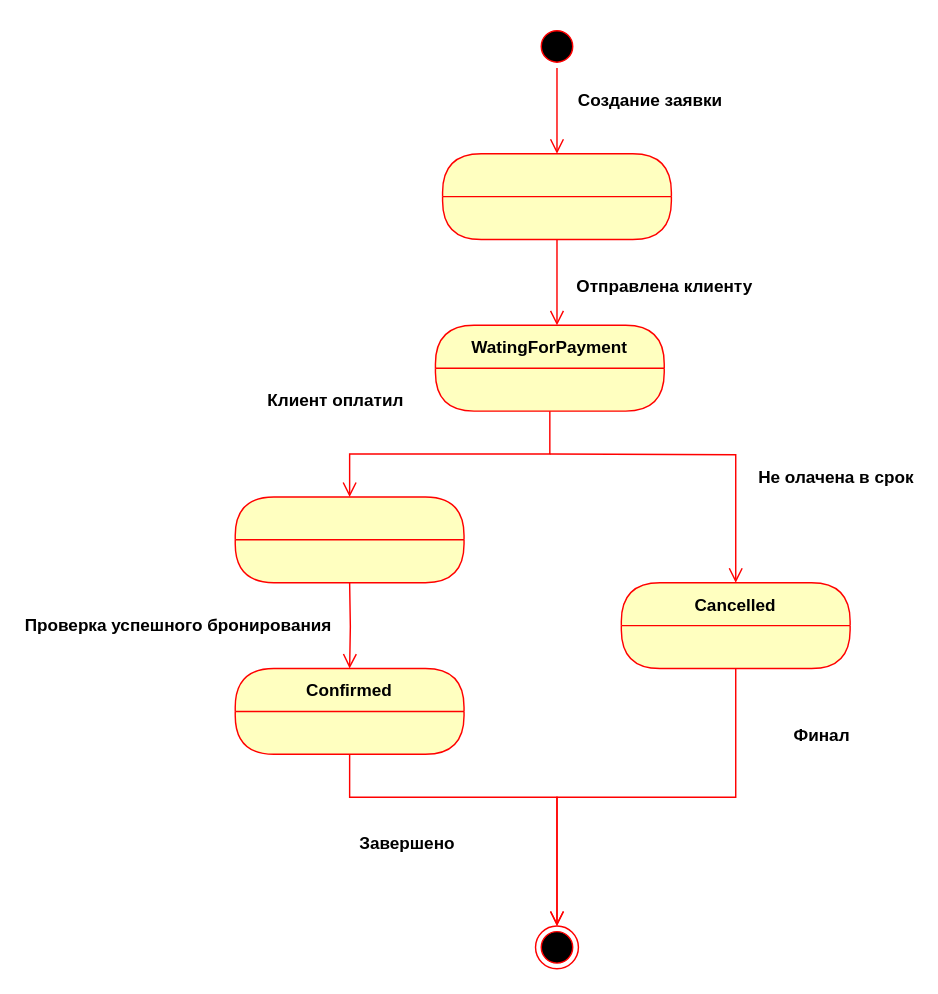
This 938x994 diagram has some shape labels left out. The centre of each missing label's shape, as x and y in pixels:
Created: (x=556, y=196)
Paid: (x=349, y=539)
